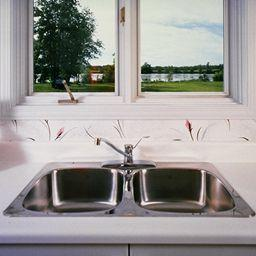Lavaplatos: (9, 135, 255, 220)
Ventana: (13, 2, 242, 104)
